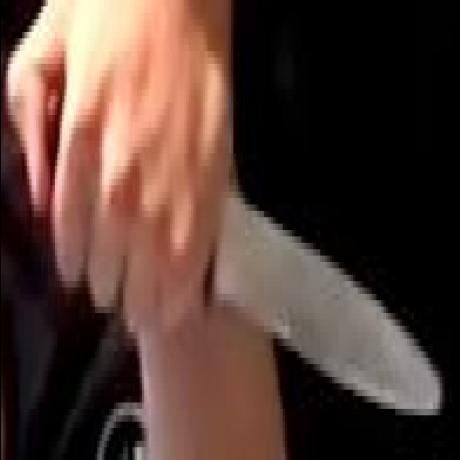1: (0, 1, 287, 460)
weapon: (200, 195, 451, 452)
